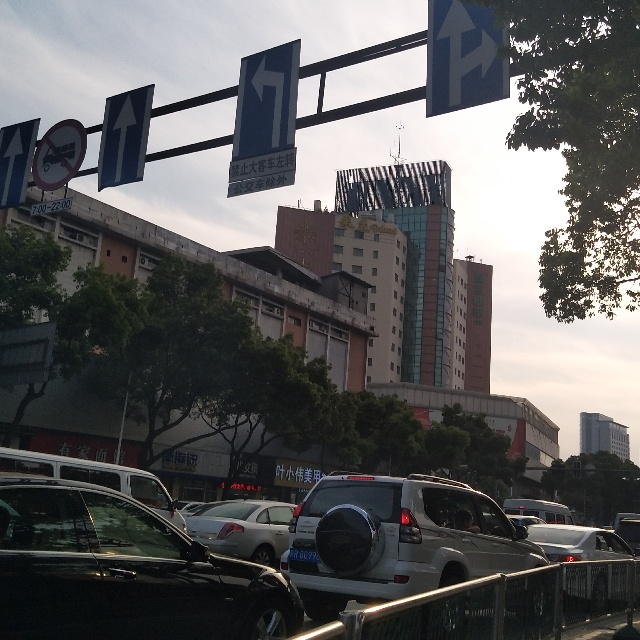left: (238, 56, 292, 147)
straight: (102, 94, 144, 183), (2, 127, 33, 211)
